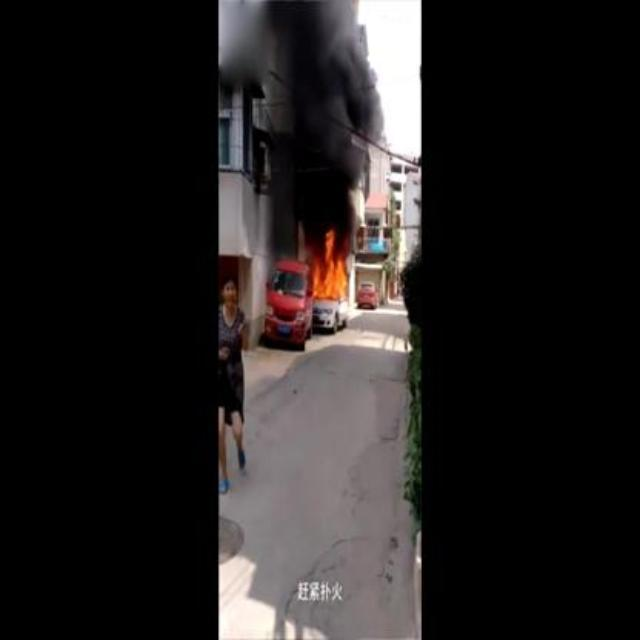Fire: (310, 228, 352, 302)
Smoke: (258, 2, 378, 228)
